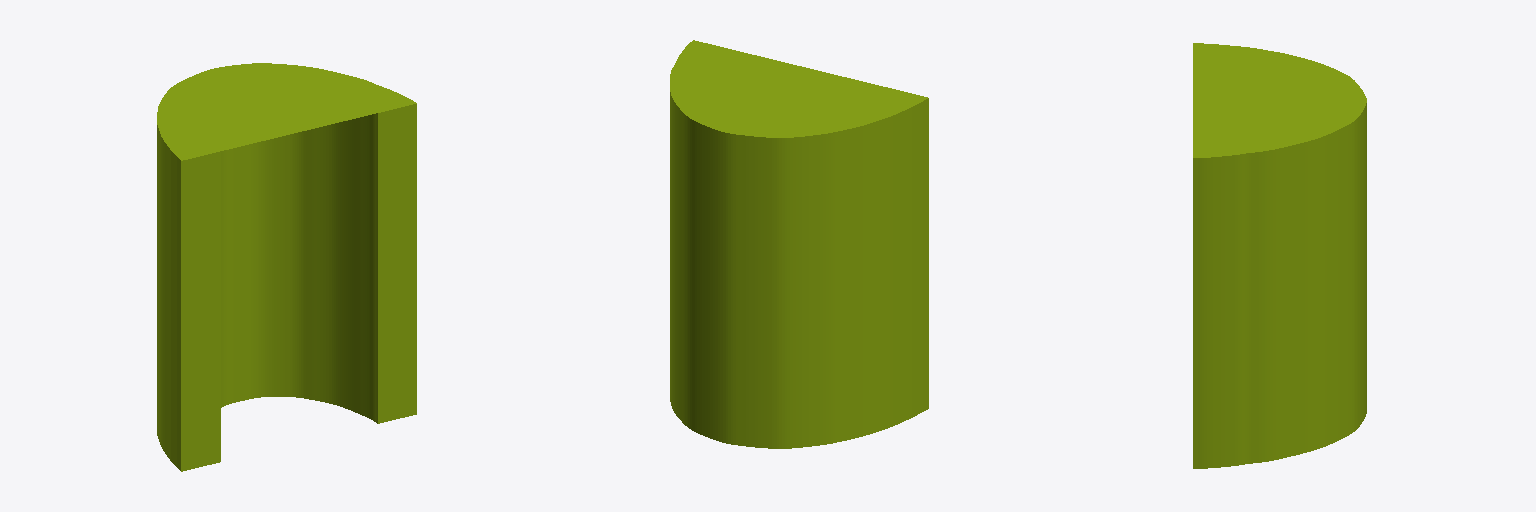
Rendered from Rainbow_Yelliow.obj.
The picture shows the model from 3 angles: view 1: azimuth 30°, elevation 25°; view 2: azimuth 150°, elevation 25°; view 3: azimuth 270°, elevation 25°; orthographic projection.
Visible parts, largest first — view 1: Line001; view 2: Line001; view 3: Line001.
Boxes of the visible parts, <box> form: Line001: <box>157,63,416,471</box>; Line001: <box>670,40,928,448</box>; Line001: <box>1193,43,1366,468</box>.
Size of the model in its own units: 85.36 by 107 by 54.42.